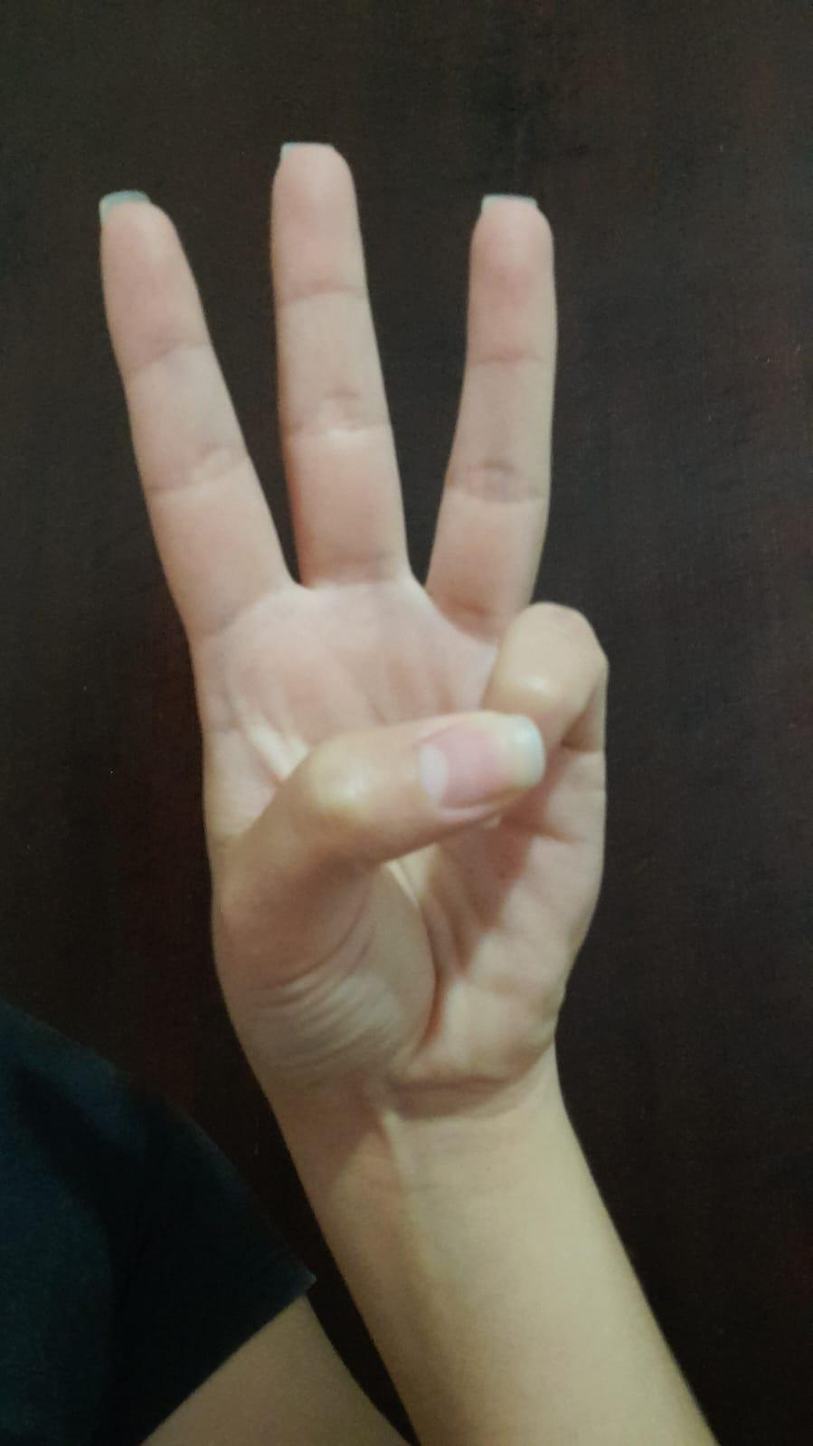W: (81, 122, 665, 1121)
